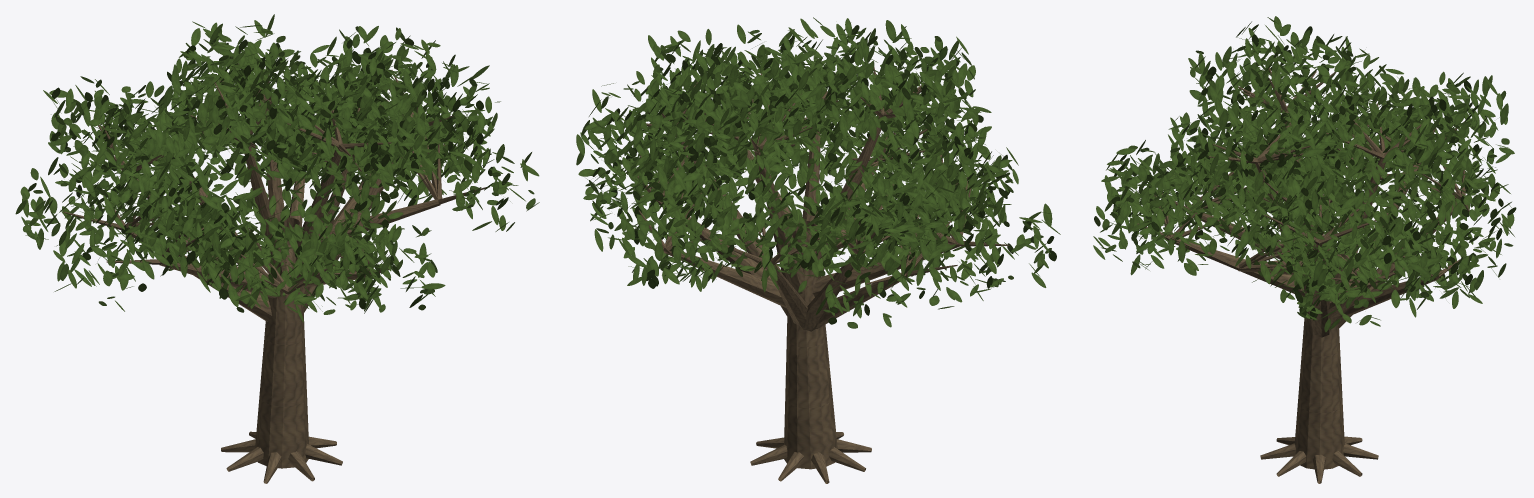
File: round_tree.glb
3 views of the same model, side by side, from view 1: azimuth 30°, elevation 25°; view 2: azimuth 150°, elevation 25°; view 3: azimuth 270°, elevation 25° (orthographic). The views are drawn at different scales.
Visible parts, largest first — view 1: round_tree_premium; view 2: round_tree_premium; view 3: round_tree_premium.
Boxes of the visible parts, x1=… form: round_tree_premium: x1=15, y1=14, x2=539, y2=483; round_tree_premium: x1=576, y1=17, x2=1060, y2=483; round_tree_premium: x1=1093, y1=16, x2=1516, y2=483.
Size of the model in its own units: 8 by 7.16 by 6.96.
2 materials, 2 textured.
